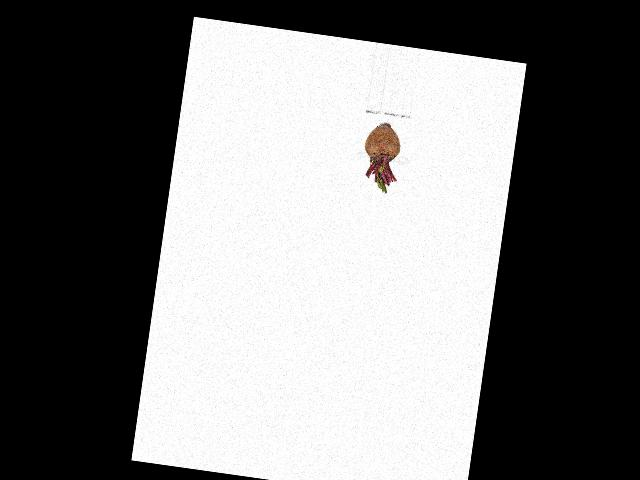beet: (358, 121, 404, 194)
